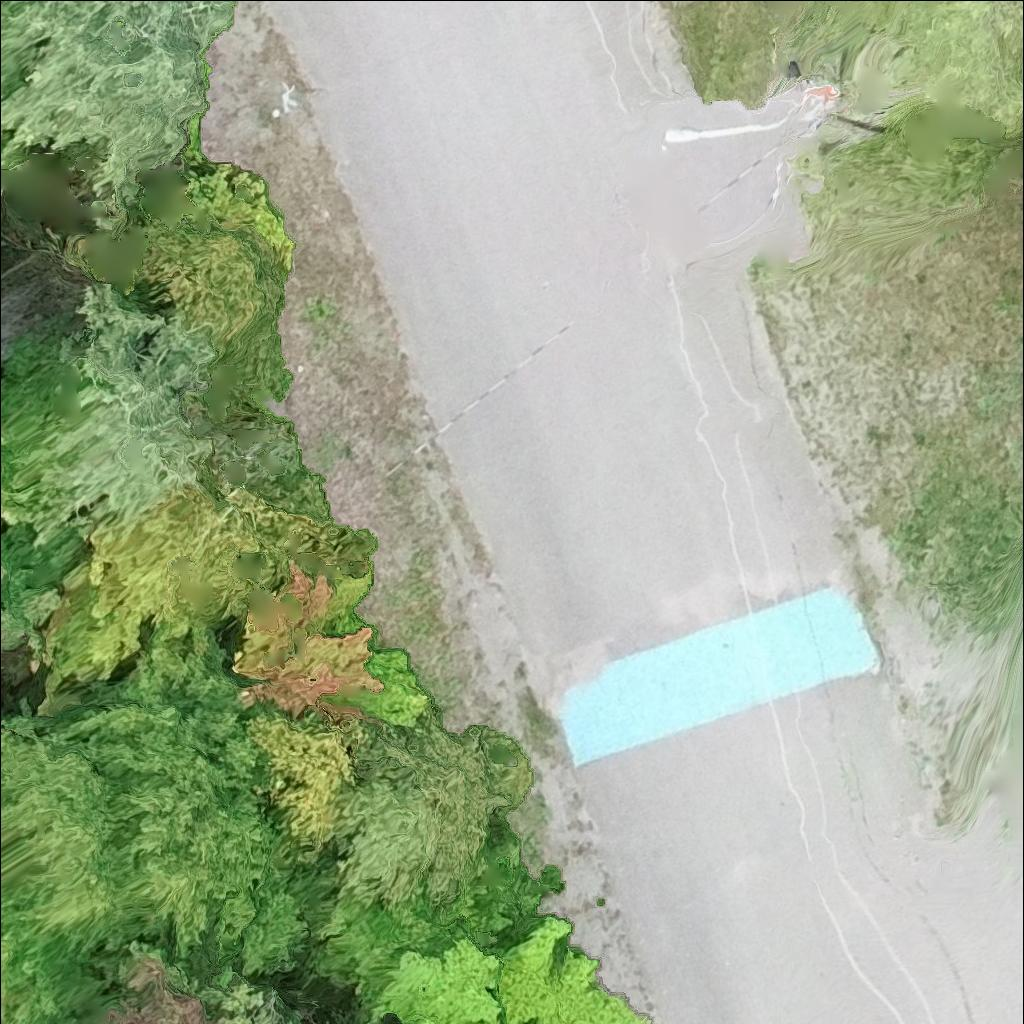crown: (858, 0, 1023, 148)
